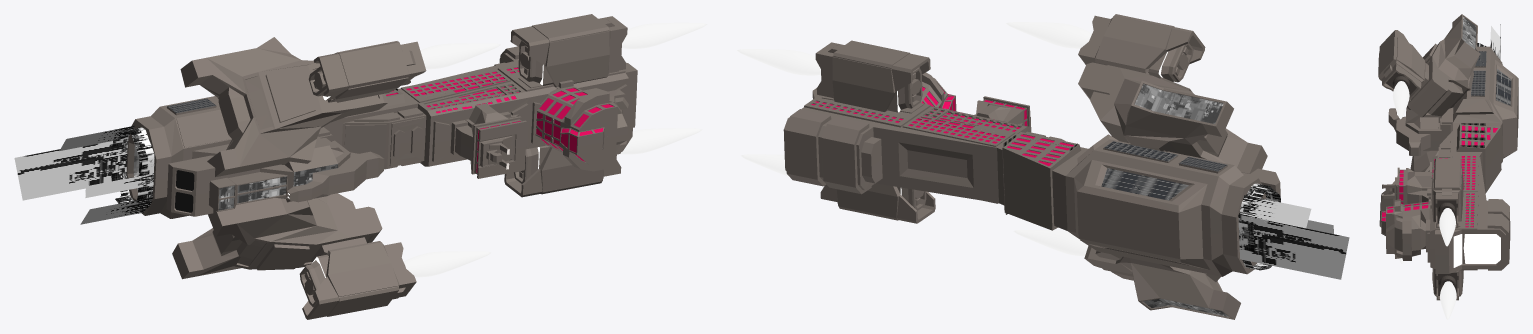
The model's file is chassis.glb.
3 views of the same model, side by side, from view 1: azimuth 30°, elevation 25°; view 2: azimuth 150°, elevation 25°; view 3: azimuth 270°, elevation 25° (orthographic). The views are drawn at different scales.
Visible parts, largest first — view 1: MasterShip, Plane.019, Edges, Cylinder, Cylinder.003, Cylinder.001, Cylinder.002, Plane.017, Plane.018, Plane.015; view 2: MasterShip, Plane.019, Cylinder.001, Cylinder.003, Plane.018, Cylinder, Edges, Cylinder.002; view 3: MasterShip, Cylinder.003, Cylinder.002, Cylinder.001, Plane.018.
Boxes of the visible parts, box(x1,y1,x2,y2) form: MasterShip: box(126, 14, 637, 319); Plane.019: box(14, 141, 127, 200); Edges: box(111, 127, 154, 203); Cylinder: box(403, 251, 490, 277); Cylinder.003: box(622, 22, 707, 48); Cylinder.001: box(420, 43, 500, 69); Cylinder.002: box(620, 128, 702, 154); Plane.017: box(85, 173, 153, 197); Plane.018: box(59, 126, 134, 150); Plane.015: box(80, 197, 153, 224); MasterShip: box(783, 14, 1280, 319); Plane.019: box(1238, 214, 1349, 279); Cylinder.001: box(1006, 22, 1091, 48); Cylinder.003: box(737, 49, 820, 75); Plane.018: box(1239, 195, 1311, 228); Cylinder: box(1013, 230, 1088, 256); Edges: box(1238, 183, 1280, 270); Cylinder.002: box(740, 154, 789, 176); MasterShip: box(1378, 14, 1518, 300); Cylinder.003: box(1439, 208, 1455, 246); Cylinder.002: box(1440, 281, 1456, 319); Cylinder.001: box(1392, 81, 1409, 119); Plane.018: box(1490, 26, 1499, 58).
Size of the model in its own units: 3.04 by 1.17 by 0.7918.
22 materials, 11 textured.
